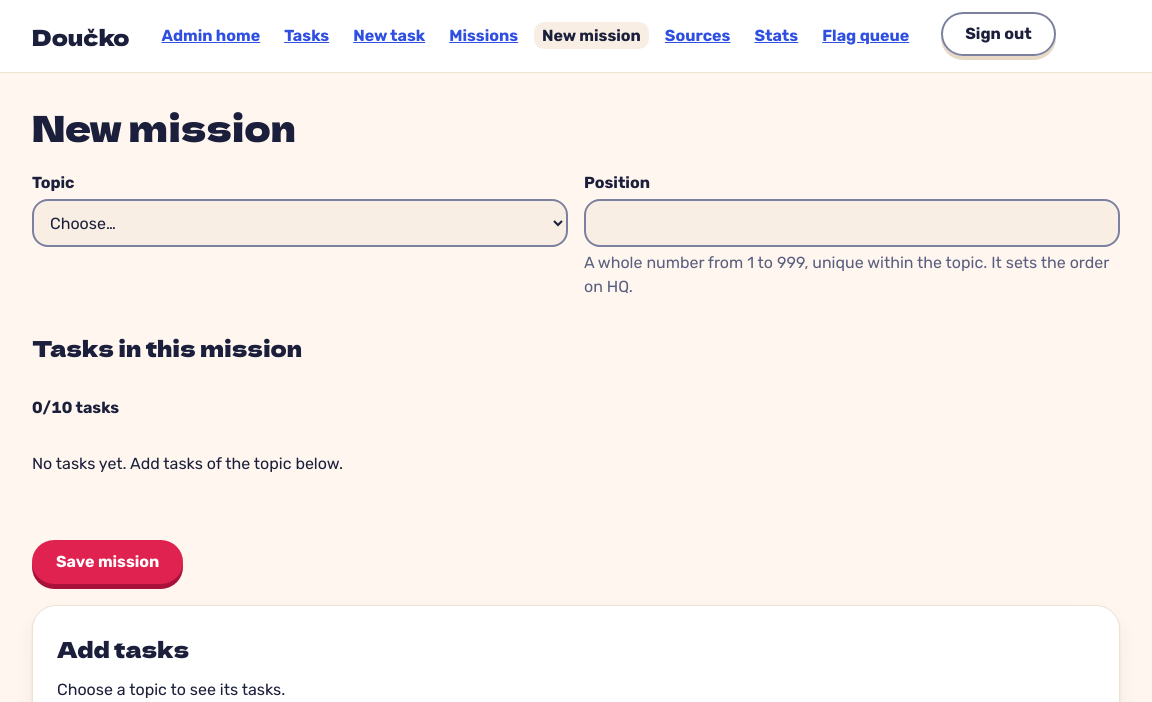
Test case: new mission (FR-9) › refuses position 0 inline before sending (Missing or duplicate position)
Expected: the heading "New mission" is shown, [32,100,296,152]
Select "Desetinná čísla" in the dropdown labelled "Topic" at point(300, 223), box [32,199,568,247]
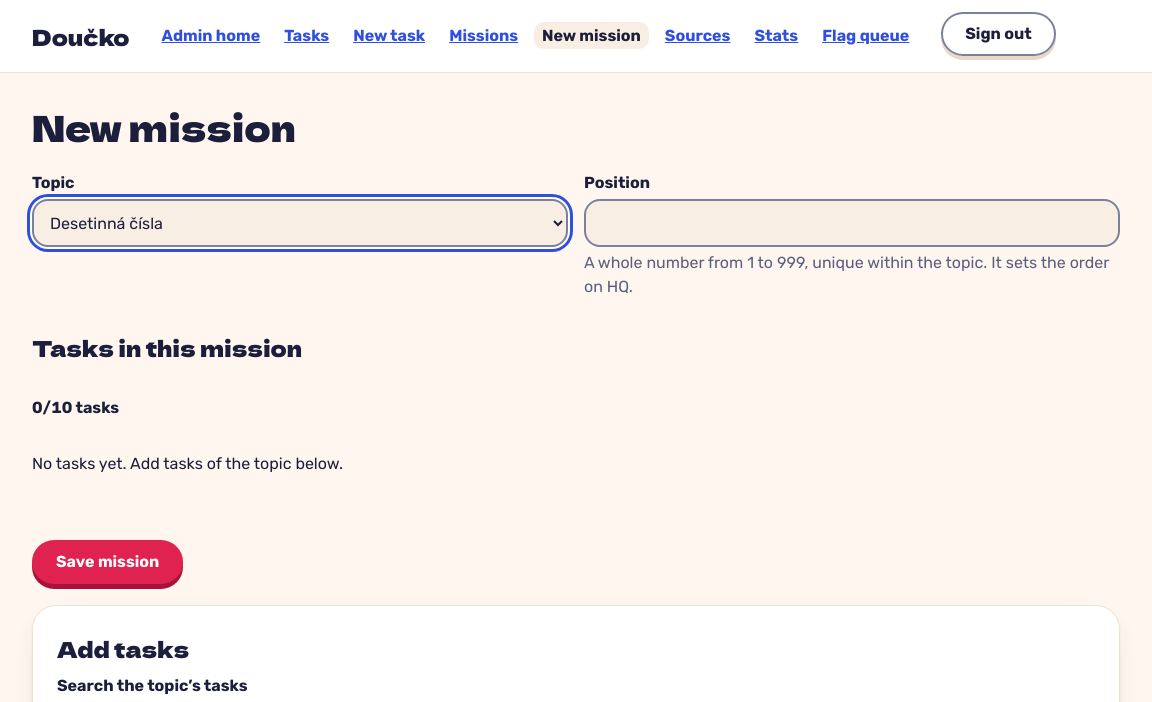
Type "0" into the field labelled "Position" at point(852, 223), box [584,199,1120,247]
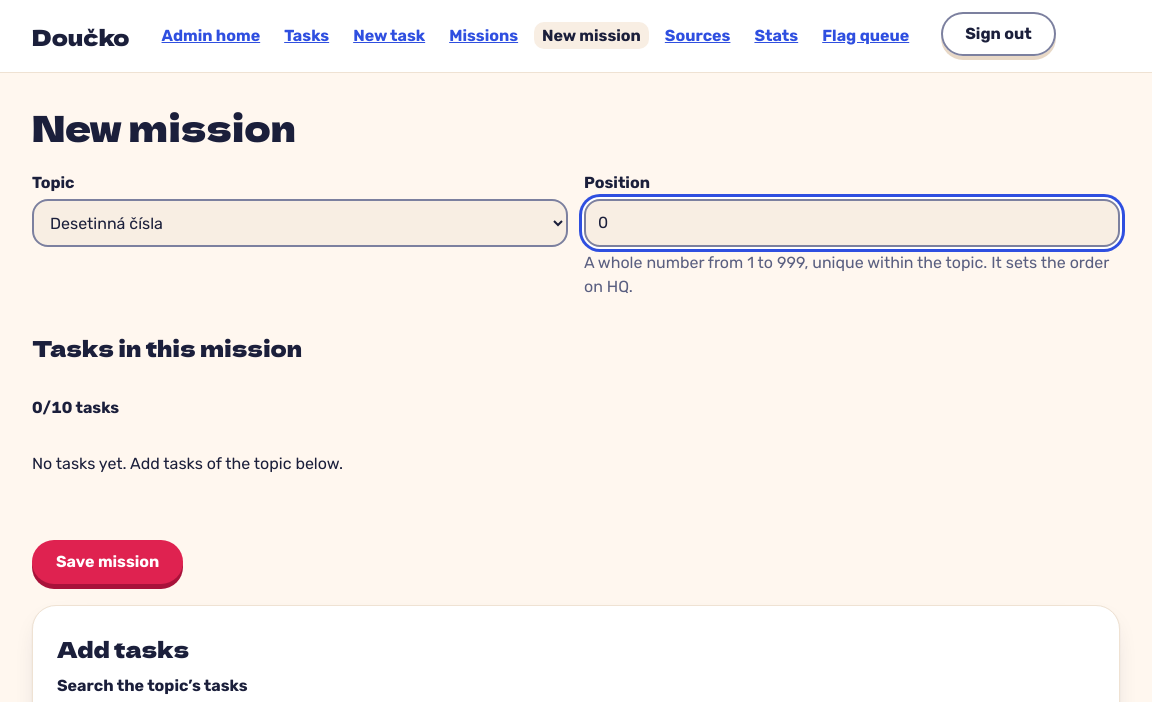
Click the button "Save mission" at point(108, 562), box [32,540,183,584]
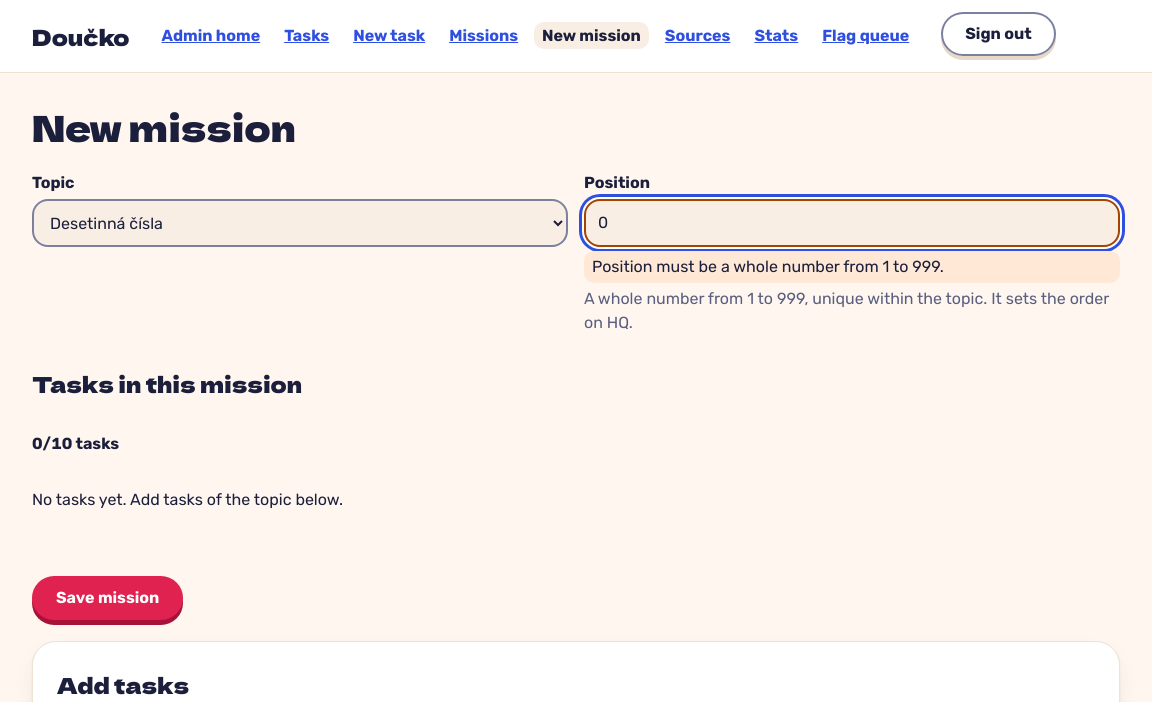
Expected: the text "Position must be a whole number from 1 to 999." is shown, [584,251,1120,283]
